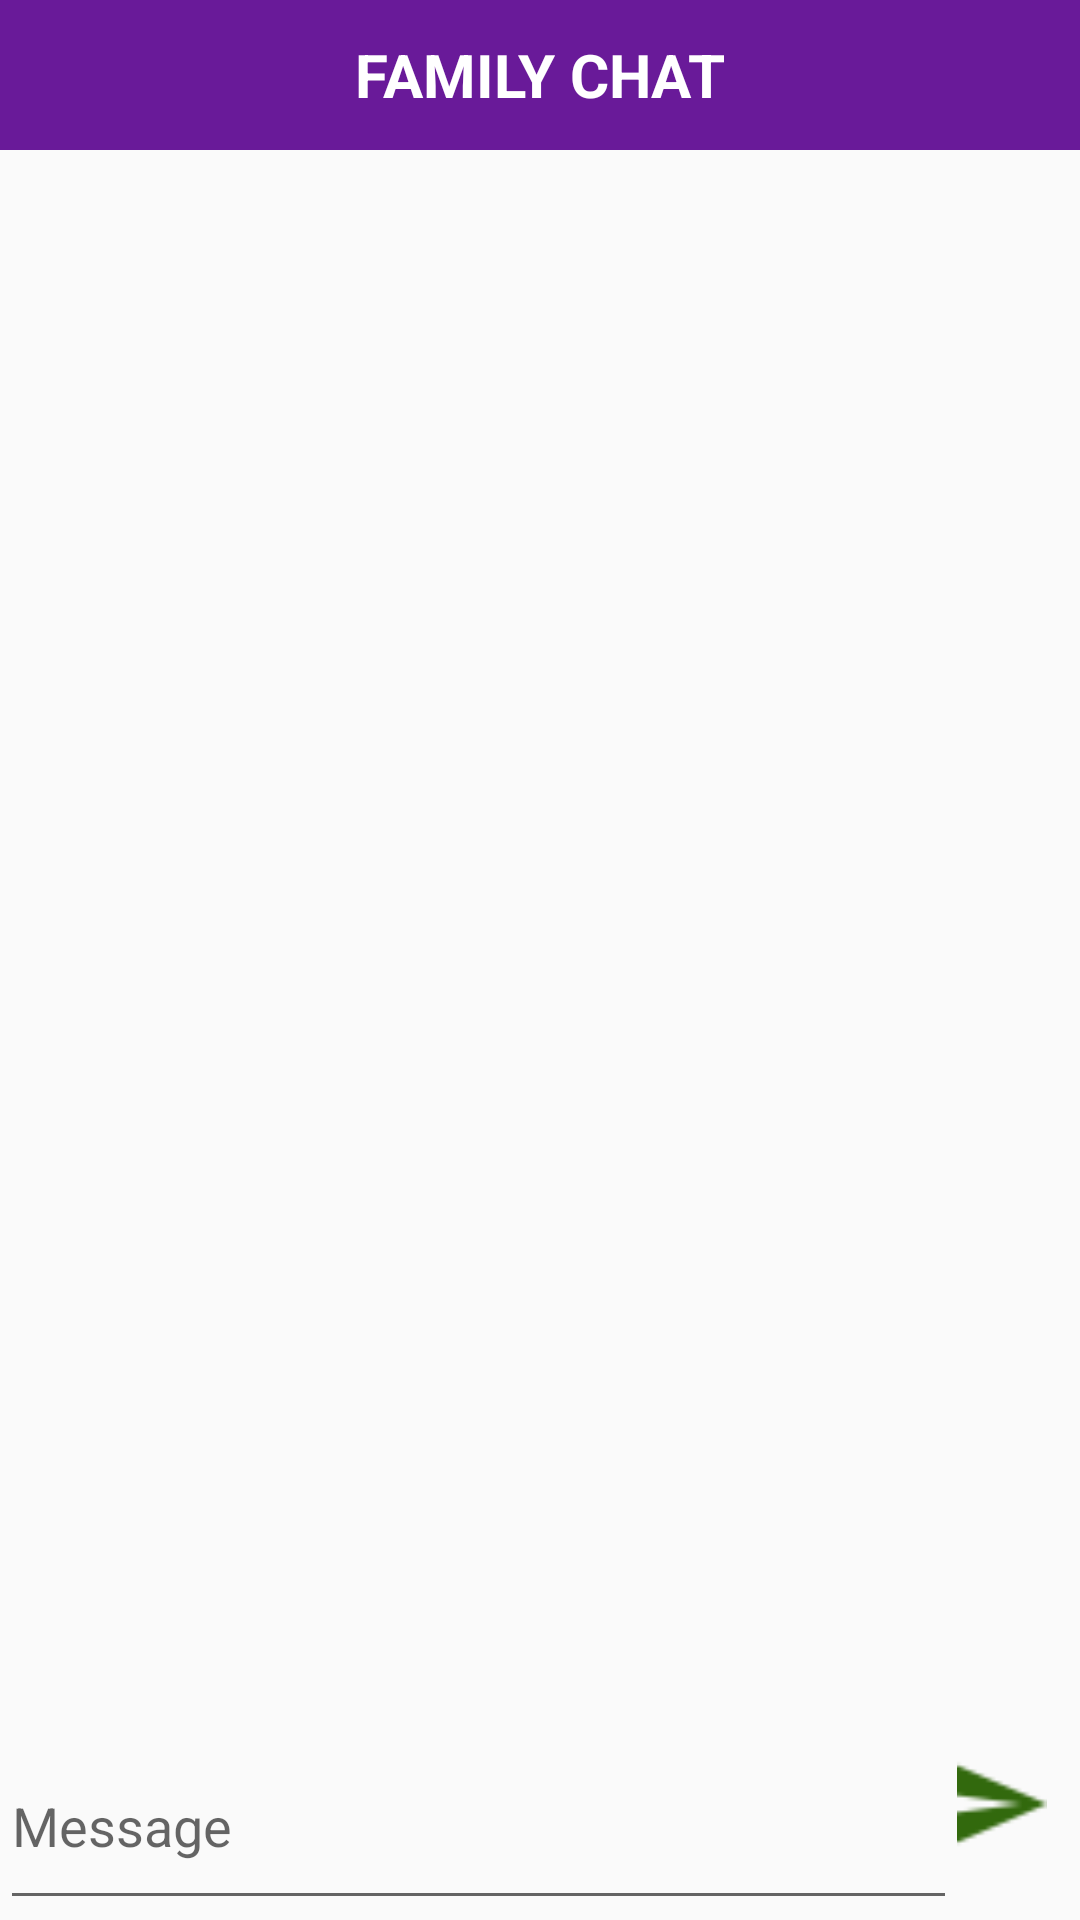

Named icons in this screenshot (1080px x 1920px) and their centers, [x,y]:
sendbutton: [1002,1804]
